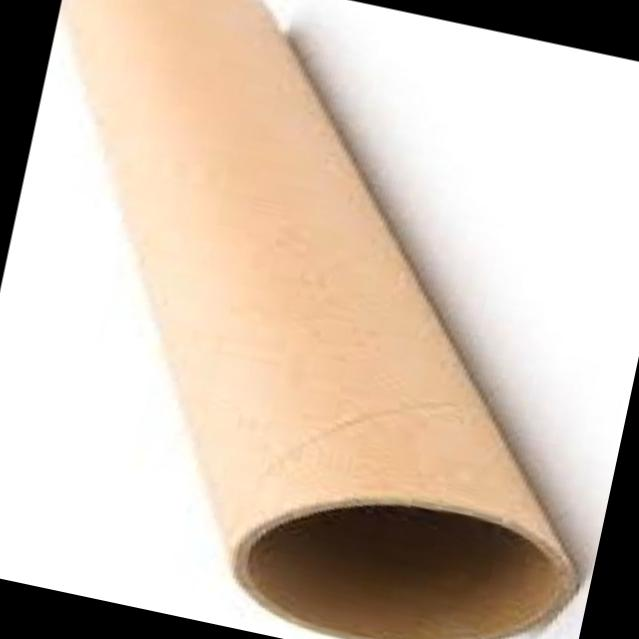cardboard paper: (61, 0, 576, 639)
